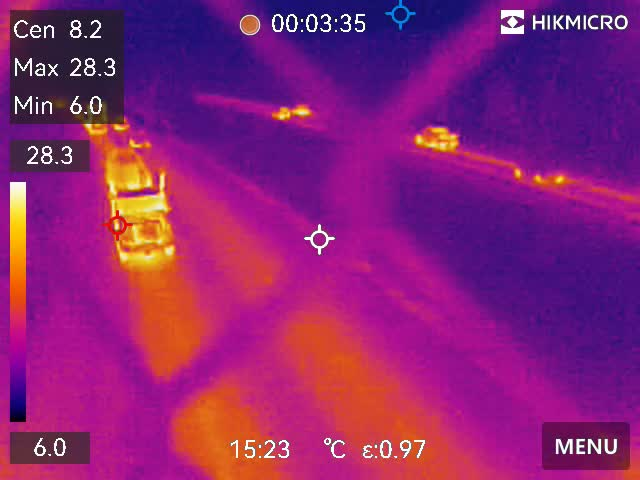heavyTruck: (97, 144, 183, 263)
